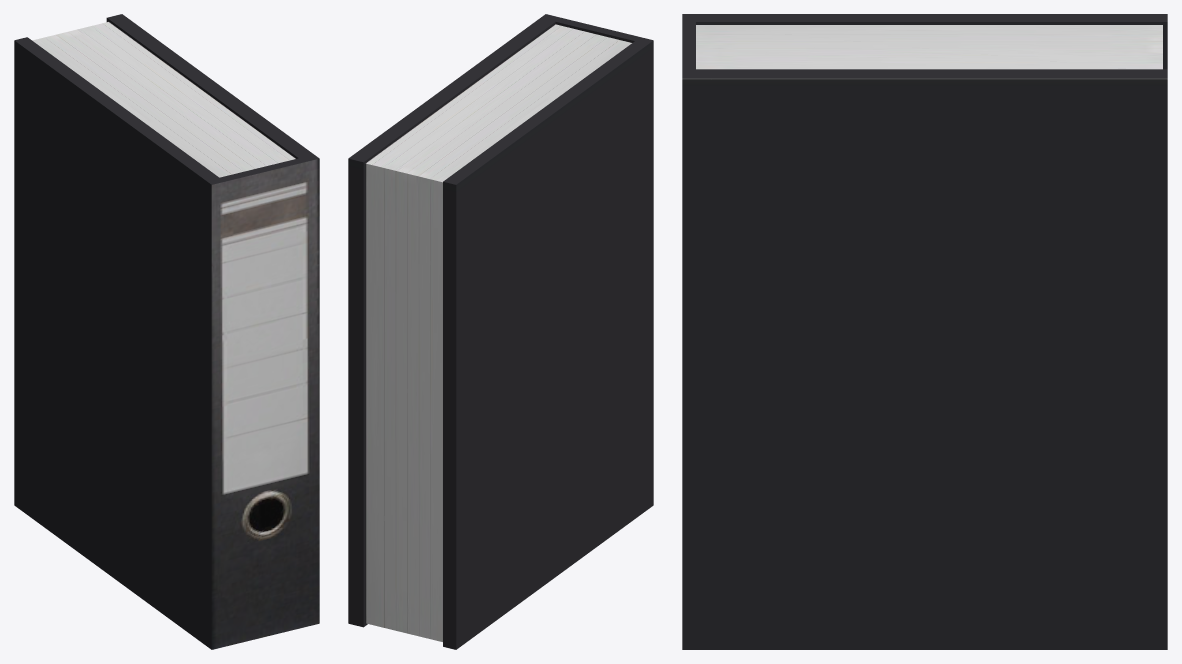
The model's file is boxfile_a.fbx.
The picture shows the model from 3 angles, left to right: view 1: azimuth 30°, elevation 25°; view 2: azimuth 150°, elevation 25°; view 3: azimuth 270°, elevation 25°; orthographic projection. The views are drawn at different scales.
Parts seen in each view (by area): view 1: Scene_Root; view 2: Scene_Root; view 3: Scene_Root.
Part boxes in pixels (x1,y1,x2,y2): Scene_Root: (14,14,319,649); Scene_Root: (348,14,653,649); Scene_Root: (682,14,1167,649).
Size of the model in its own units: 4.45 by 18.32 by 14.1.
